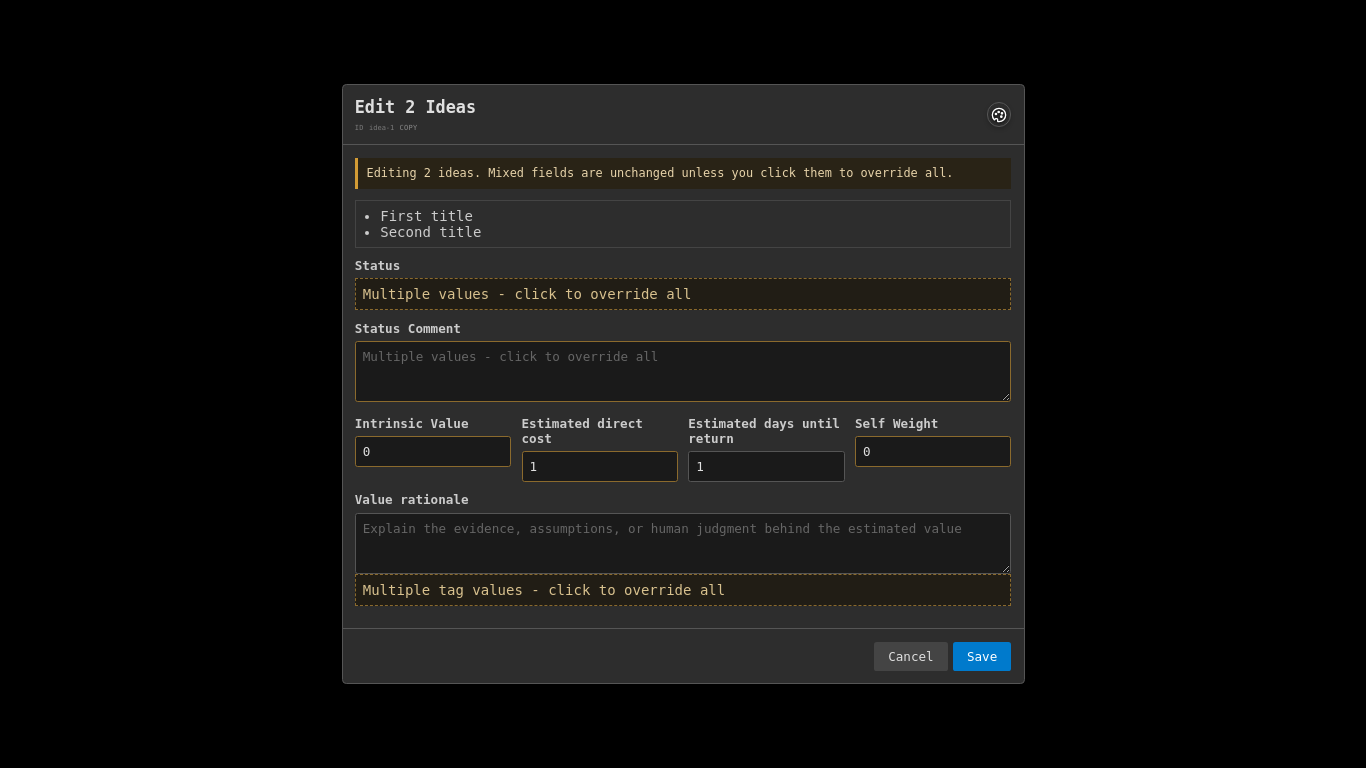
Test case: IdeaEditModal keyboard save behavior › uses explicit activation for mixed selects and protects mixed ongoing ideas from archive
expect the text "Archive this idea" is not shown: met
Click the button with class "mixed-activate" that starts with "Multiple values - click to override all" at {"x": 683, "y": 294}, box [355, 278, 1011, 310]
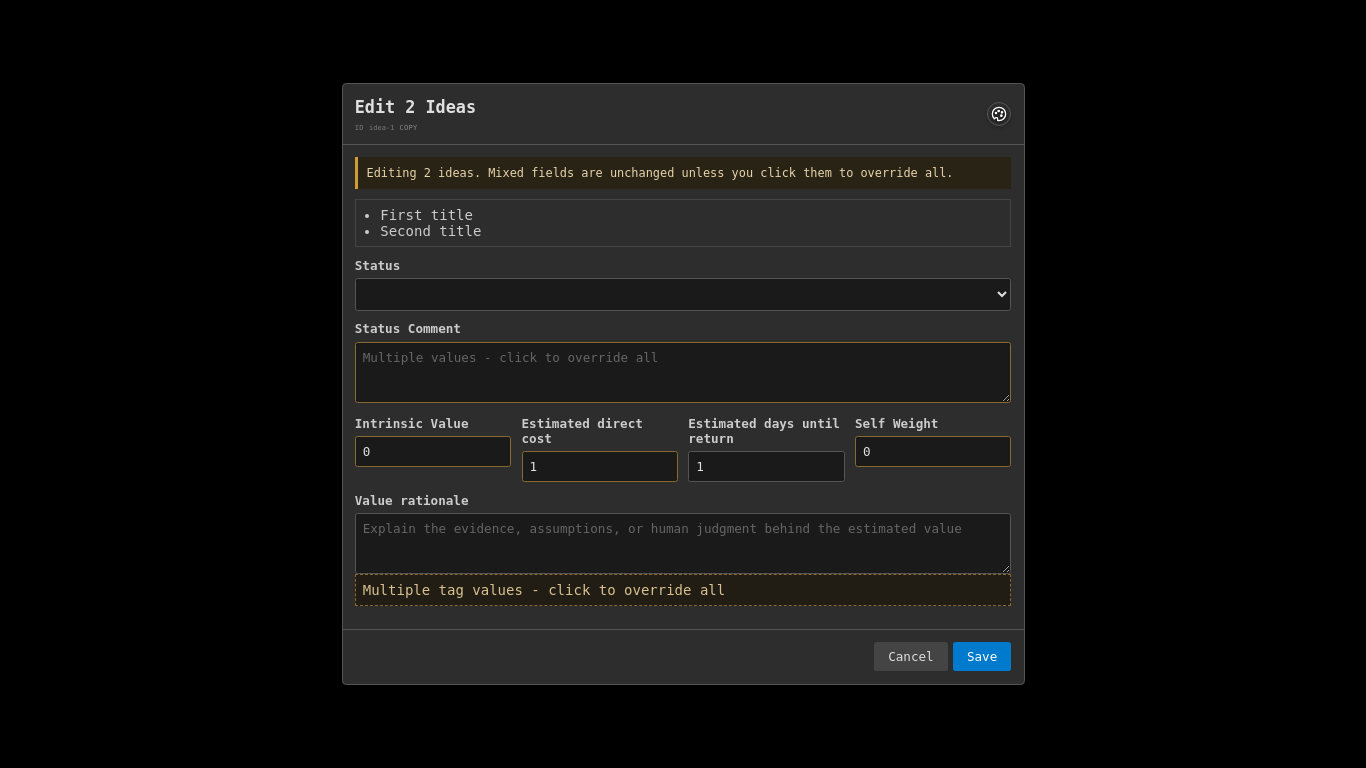
expect the dropdown is shown: met
Select "implemented" in the dropdown at {"x": 683, "y": 294}, box [355, 278, 1011, 311]
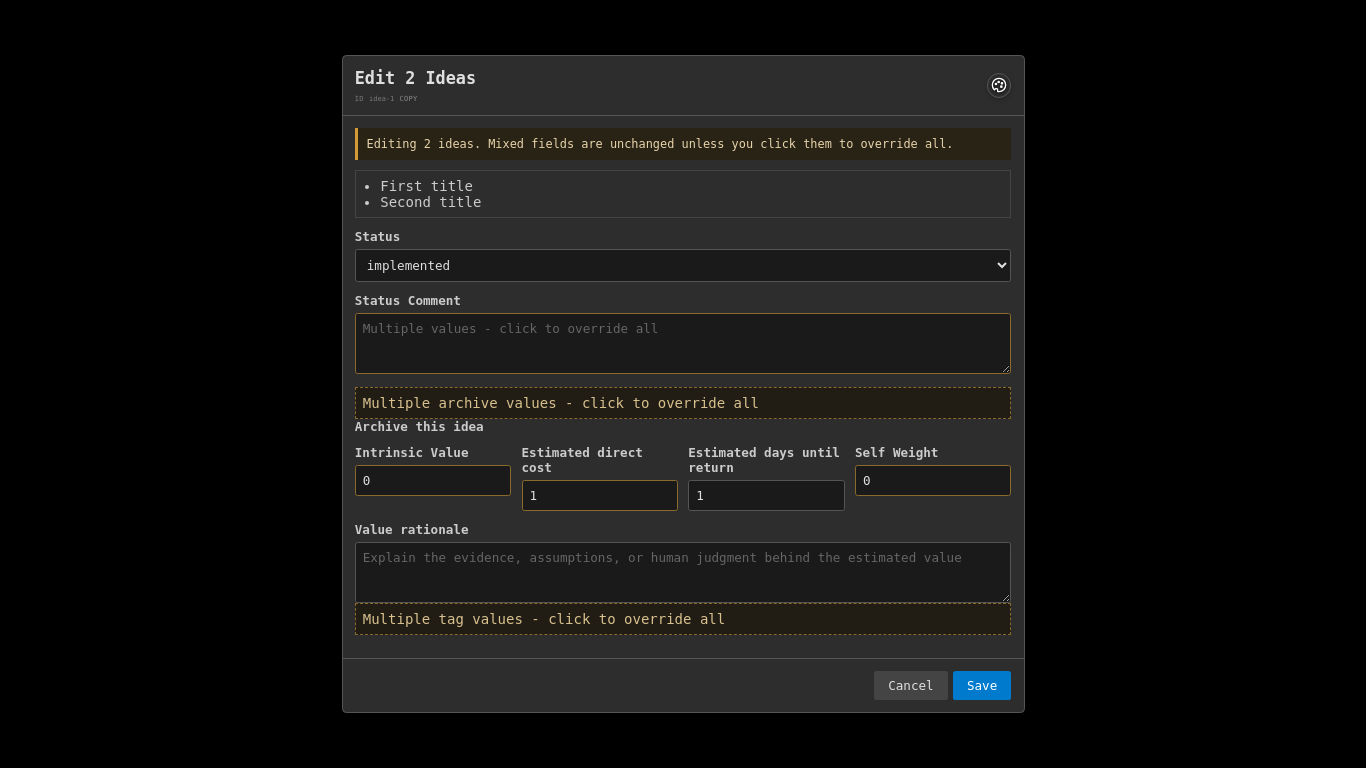
expect the text "Archive this idea" is shown: met, box [355, 419, 484, 434]
